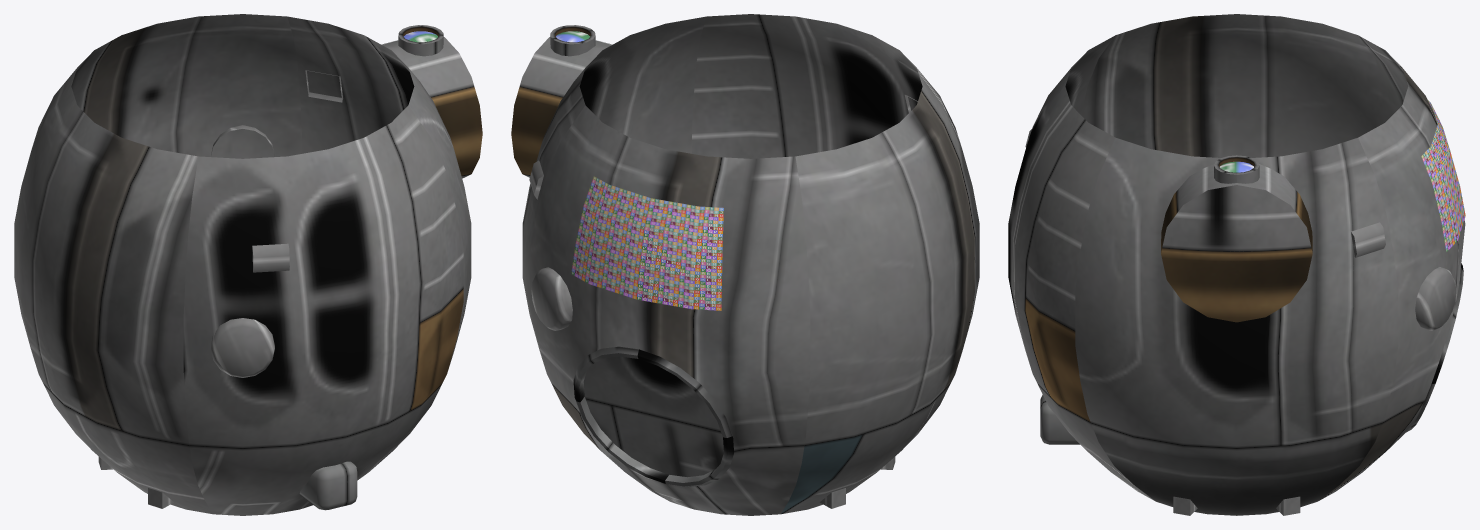
File: orbital_module.obj
3 views of the same model, side by side, from view 1: azimuth 30°, elevation 25°; view 2: azimuth 150°, elevation 25°; view 3: azimuth 270°, elevation 25° (orthographic).
Visible parts, largest first — view 1: mesh; view 2: mesh, flag; view 3: mesh, flag.
Boxes of the visible parts, box(x1,y1,x2,y2) form: mesh: box(14, 14, 482, 515); mesh: box(511, 14, 979, 515); flag: box(571, 176, 723, 310); mesh: box(1008, 14, 1465, 515); flag: box(1421, 99, 1465, 251).
Bounding box in the file's own units: 1.29 × 1.18 × 1.25.
